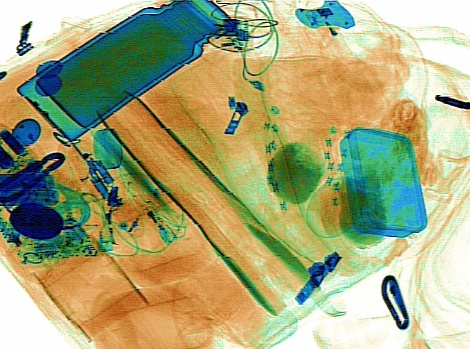lighter: (124, 181, 176, 244), (303, 5, 352, 59), (93, 182, 117, 253)
